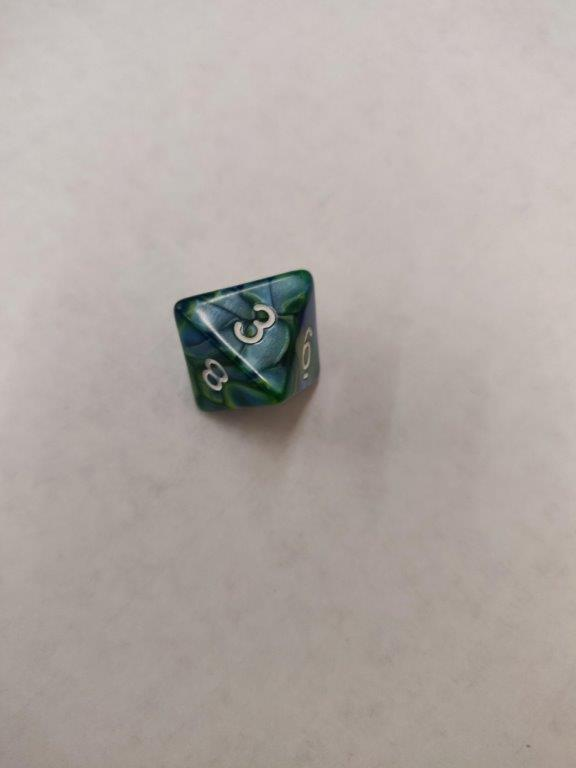d8-3: (174, 268, 323, 414)
